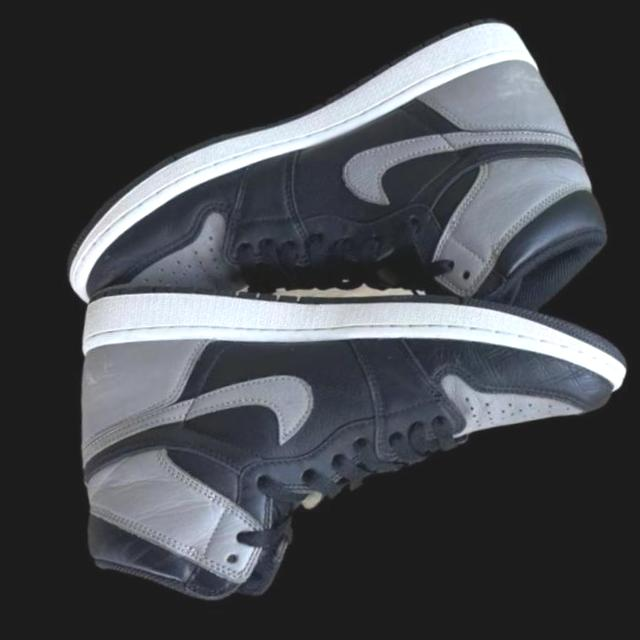nike_original_jordan: (0, 29, 640, 640), (23, 0, 640, 508)
